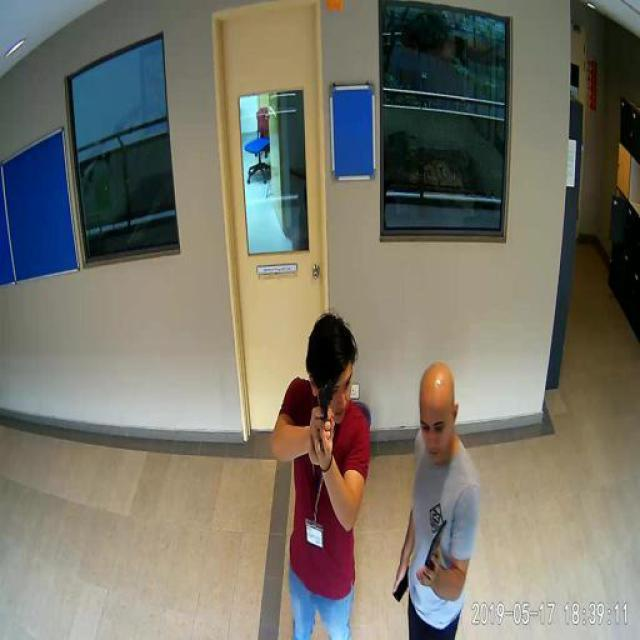weapon: (312, 382, 338, 438)
